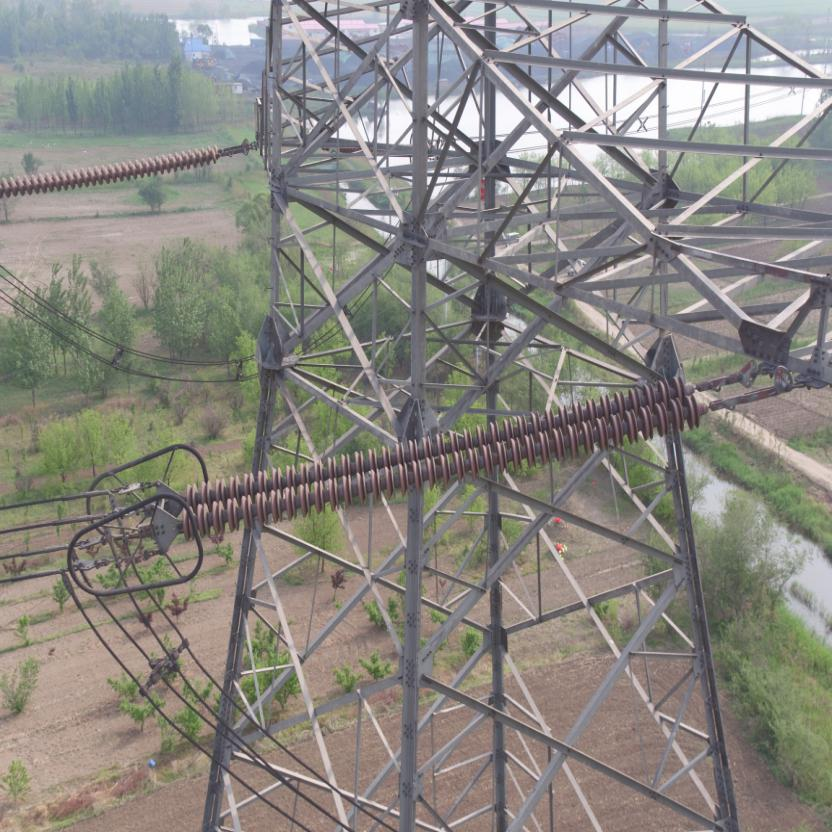insulator: (168, 370, 744, 542), (1, 140, 224, 206)
